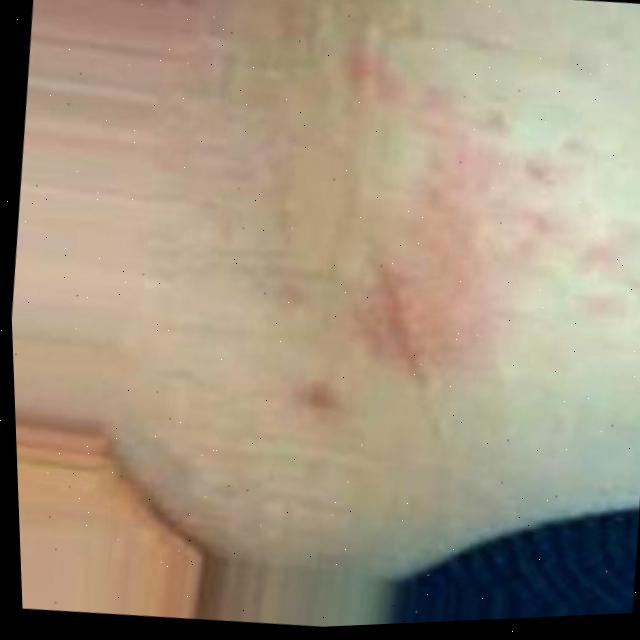Shingles: (280, 35, 640, 454)
